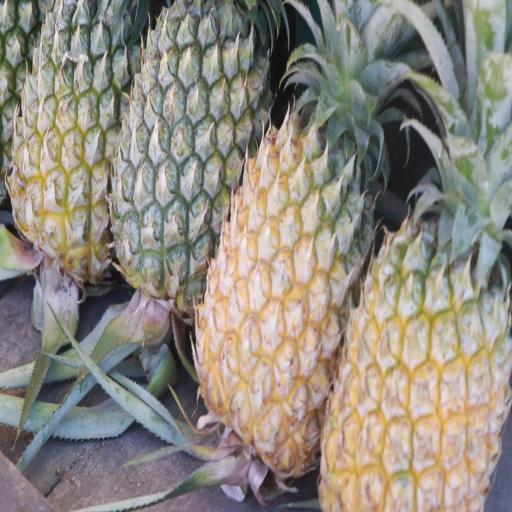------------------------------: (8, 0, 149, 281)
Pineapple - v8 v1: (188, 0, 378, 482), (314, 162, 512, 512)
